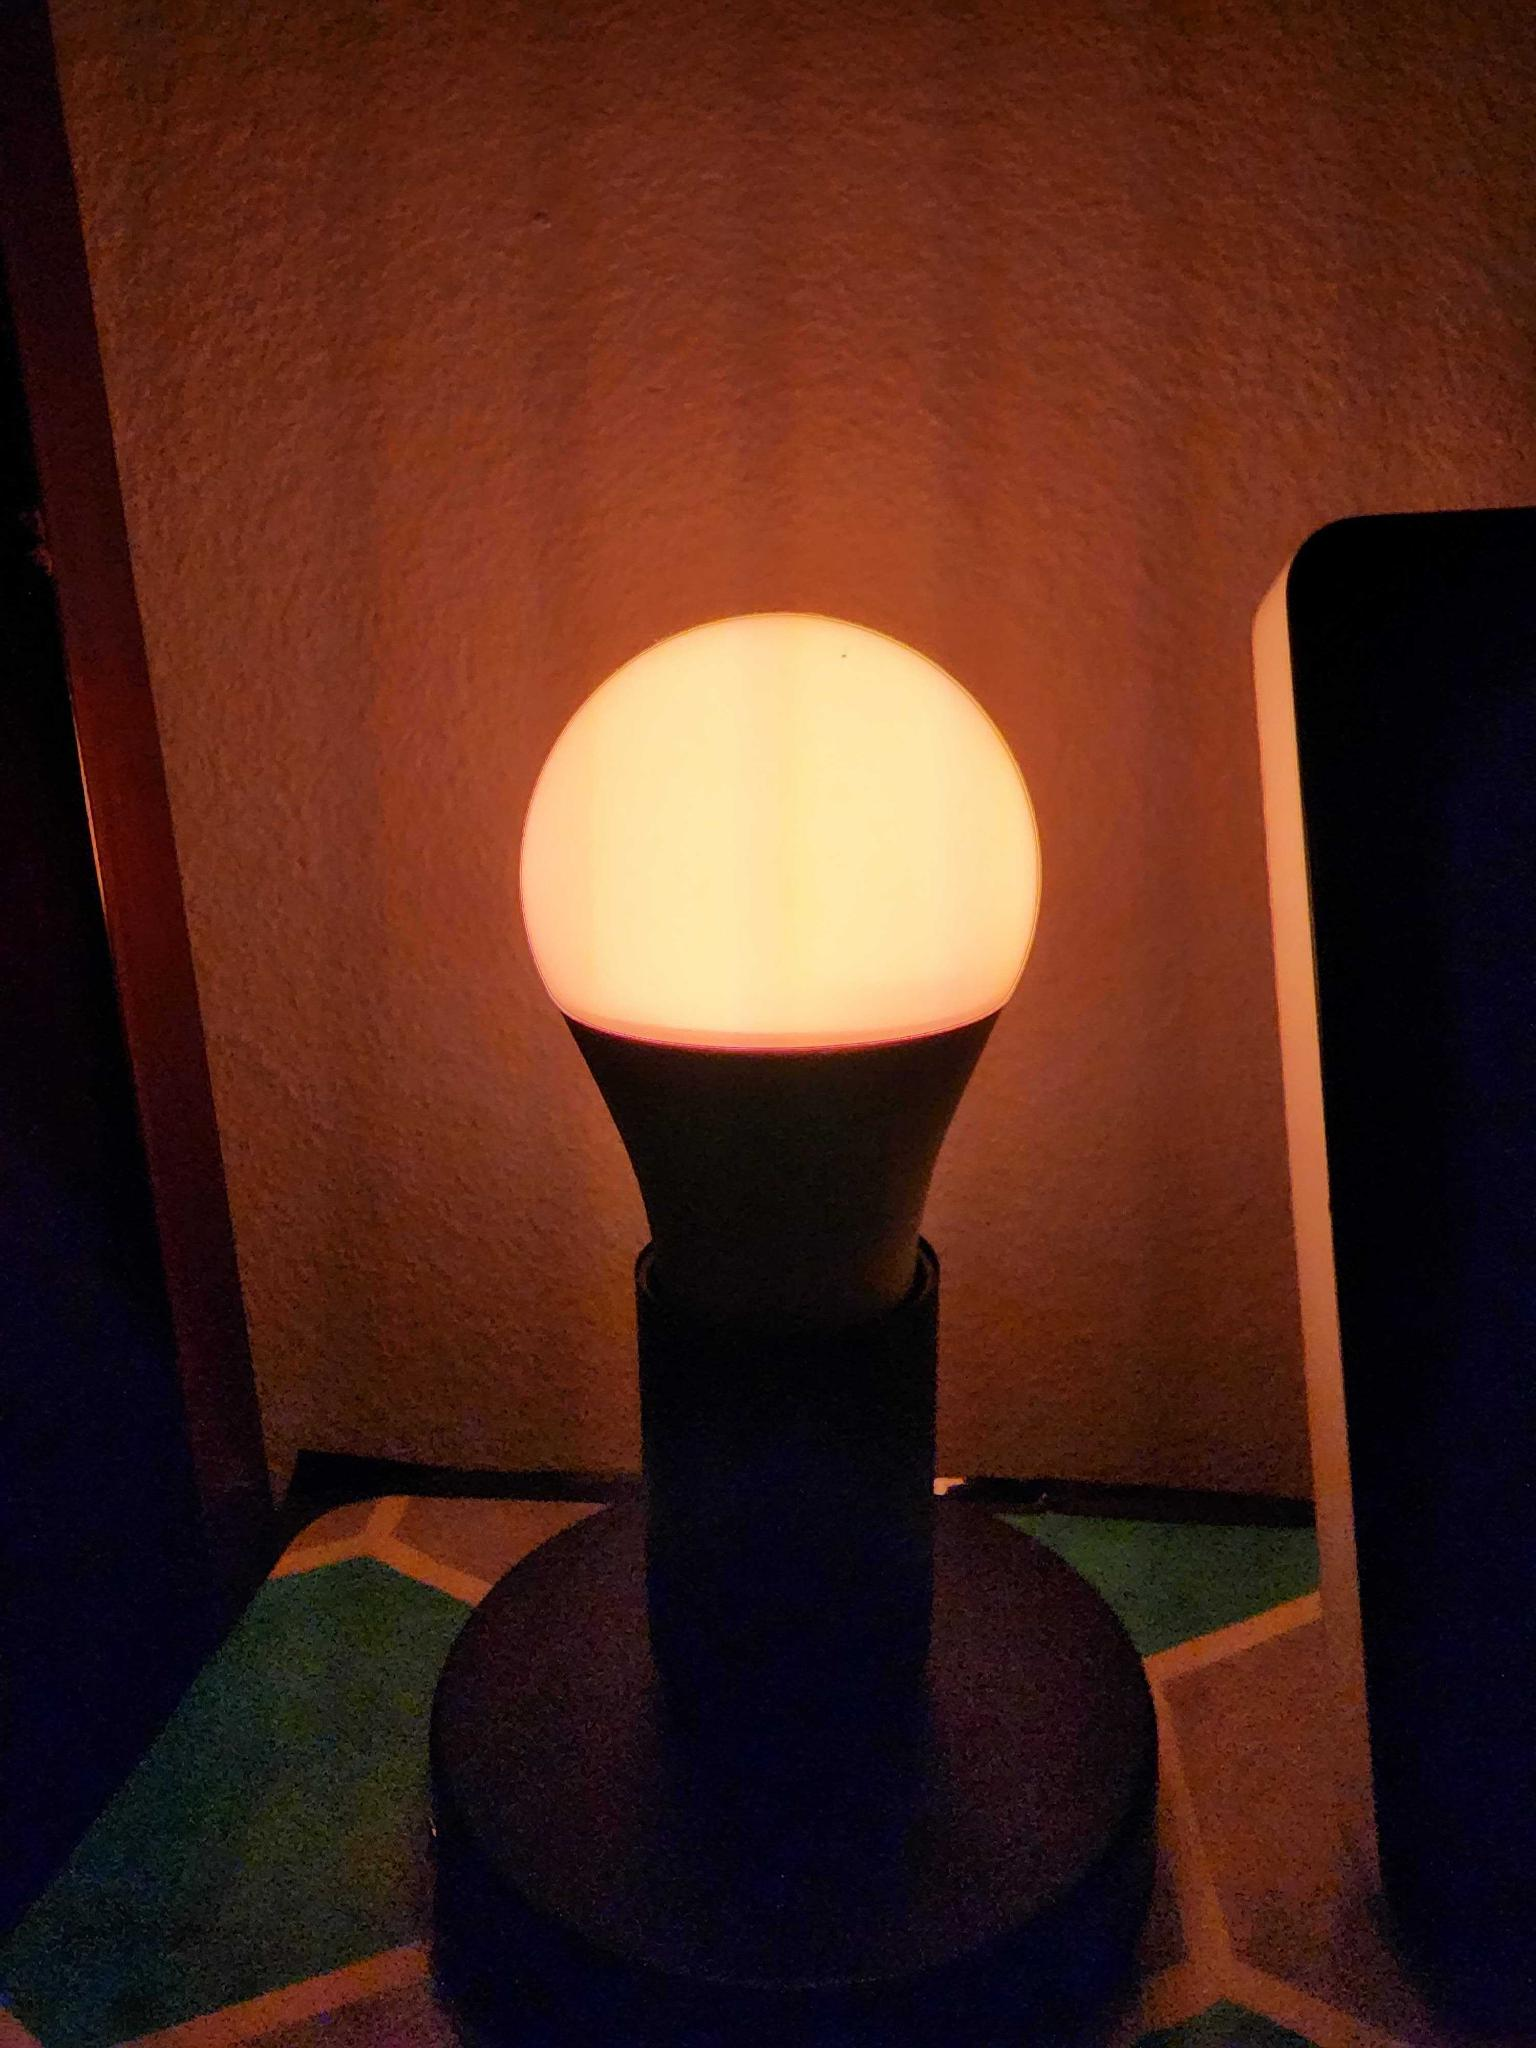TubeLight: (516, 610, 1044, 1453)
